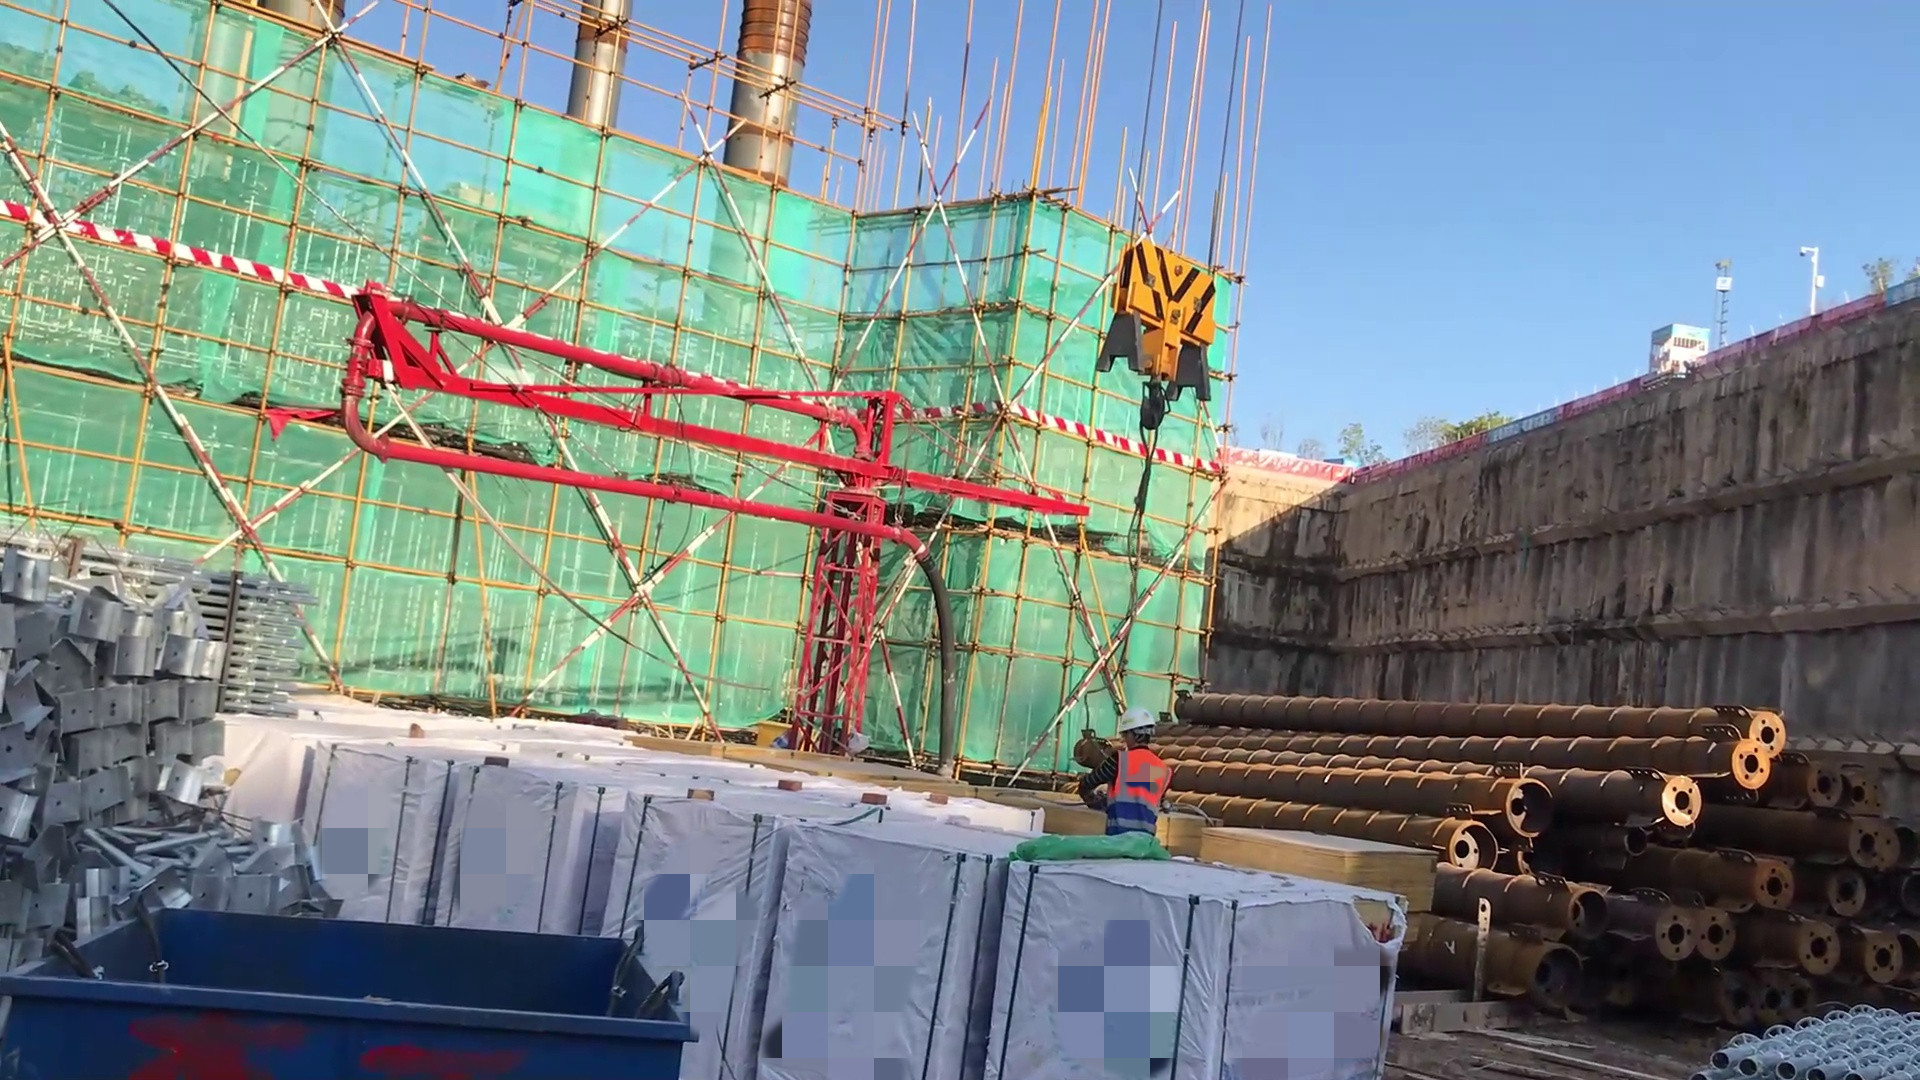board: (1180, 811, 1434, 926), (1153, 813, 1232, 856)
ebox: (744, 712, 825, 773)
helmet: (1111, 705, 1161, 751)
hook: (1100, 221, 1237, 470)
hopper: (1, 882, 700, 1080)
person: (1078, 700, 1184, 869)
scaffold: (195, 567, 329, 728), (1700, 992, 1920, 1080)
slogan: (1469, 402, 1566, 448), (1881, 274, 1919, 316)
vest: (1096, 746, 1180, 849)
